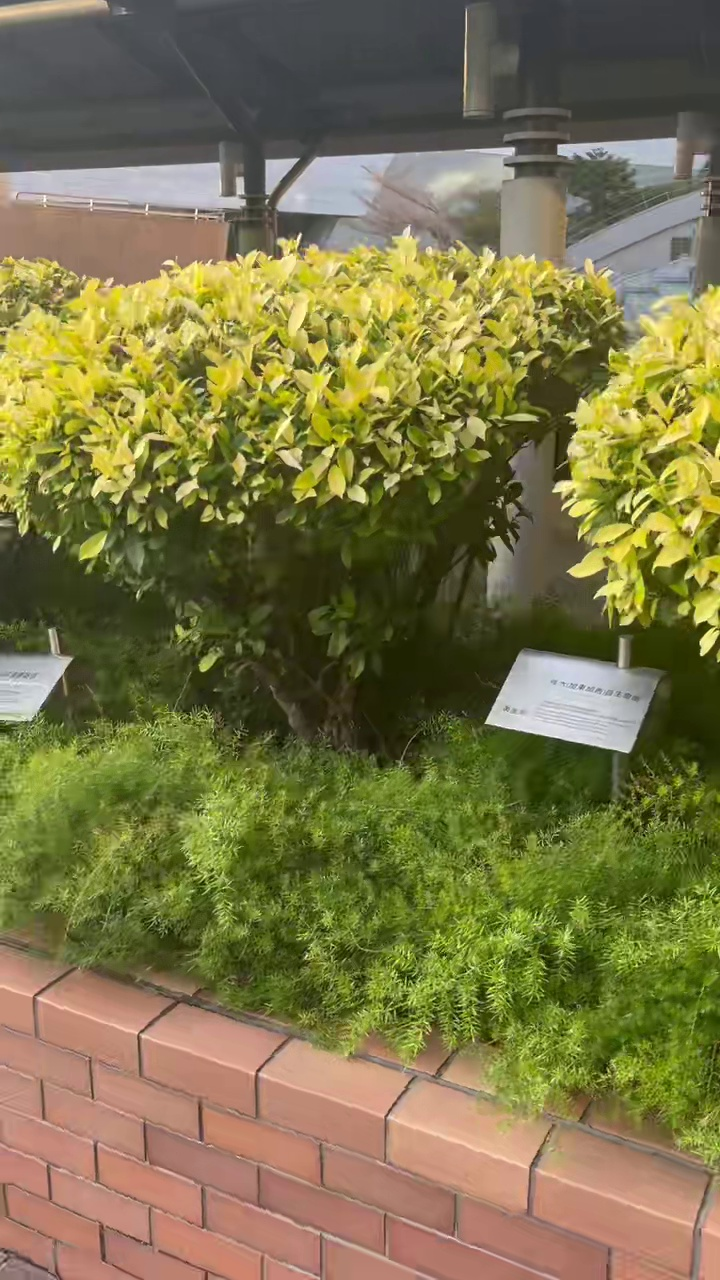Golden-leaves Fig: (0, 235, 619, 746)
